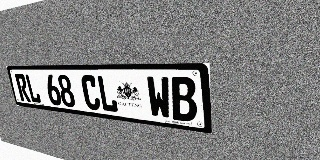6: (44, 74, 62, 106)
8: (56, 74, 76, 108)
B: (169, 77, 197, 123)
C: (80, 75, 101, 111)
L: (96, 75, 119, 113), (24, 74, 42, 103)
R: (14, 74, 31, 102)
W: (146, 76, 172, 119)
